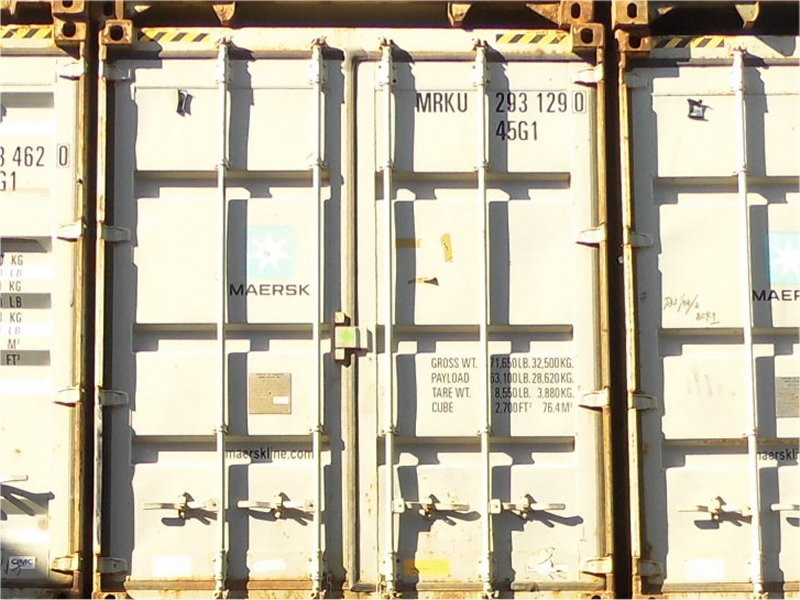container_door: (96, 22, 622, 600)
